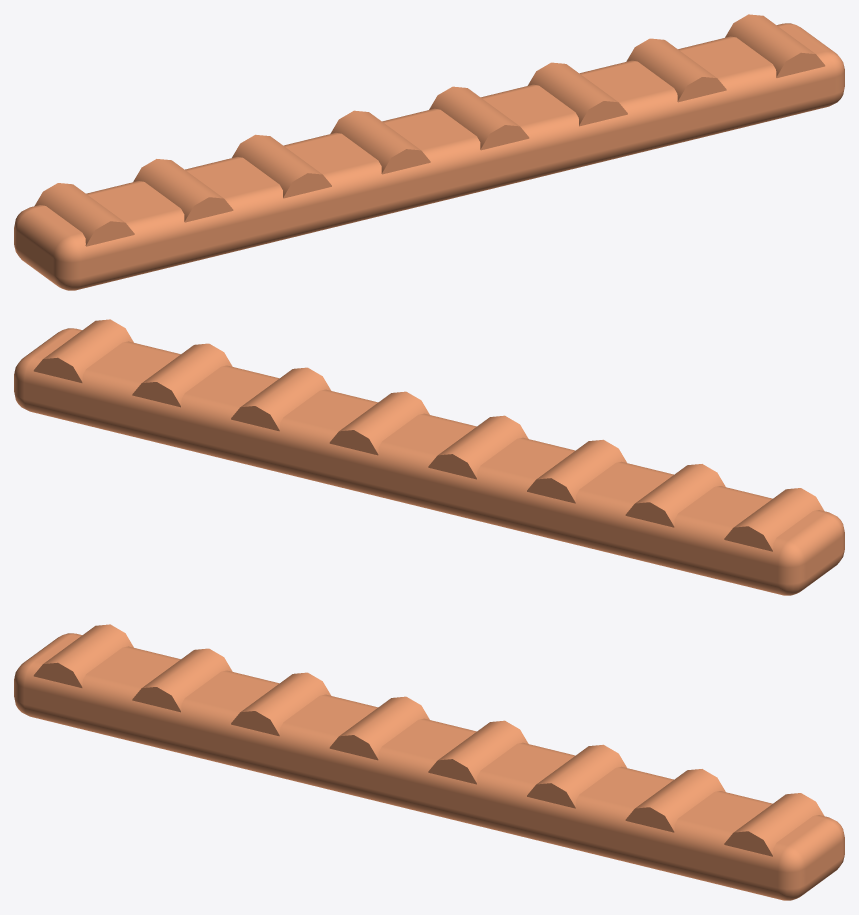
File: hero-shooter-harbour-payload-roof-ridge-tiled-d1719c09__27697.glb
3 views of the same model, one above another, from view 1: azimuth 30°, elevation 25°; view 2: azimuth 150°, elevation 25°; view 3: azimuth 330°, elevation 25° (orthographic).
Visible parts, largest first — view 1: roof-ridge-tiled; view 2: roof-ridge-tiled; view 3: roof-ridge-tiled.
Part boxes in pixels (x1,y1,x2,y2): roof-ridge-tiled: (14, 14, 844, 290); roof-ridge-tiled: (14, 319, 844, 595); roof-ridge-tiled: (14, 624, 844, 900).
Size of the model in its own units: 4 by 0.3198 by 0.5.
